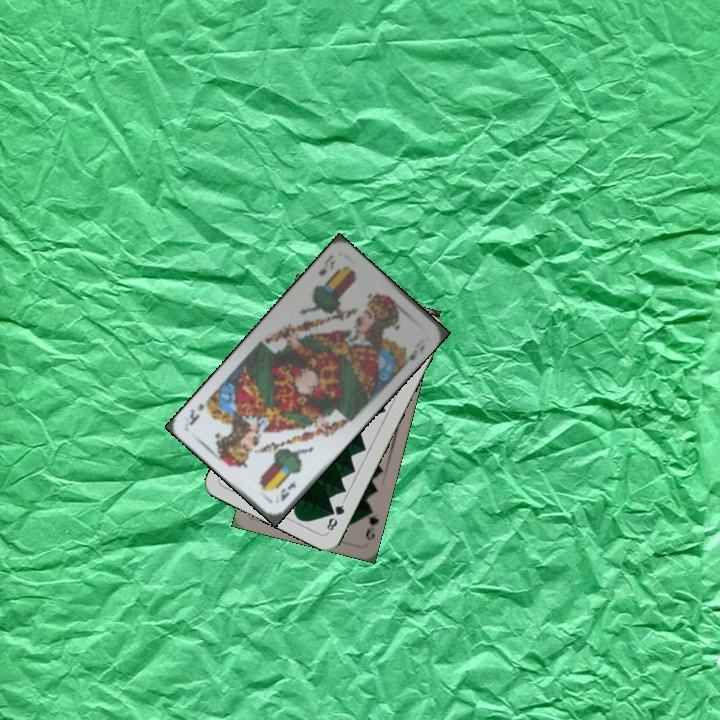EK: (315, 250, 338, 279), (276, 478, 299, 504)
G8: (322, 497, 347, 535)
G9: (361, 503, 381, 543)
